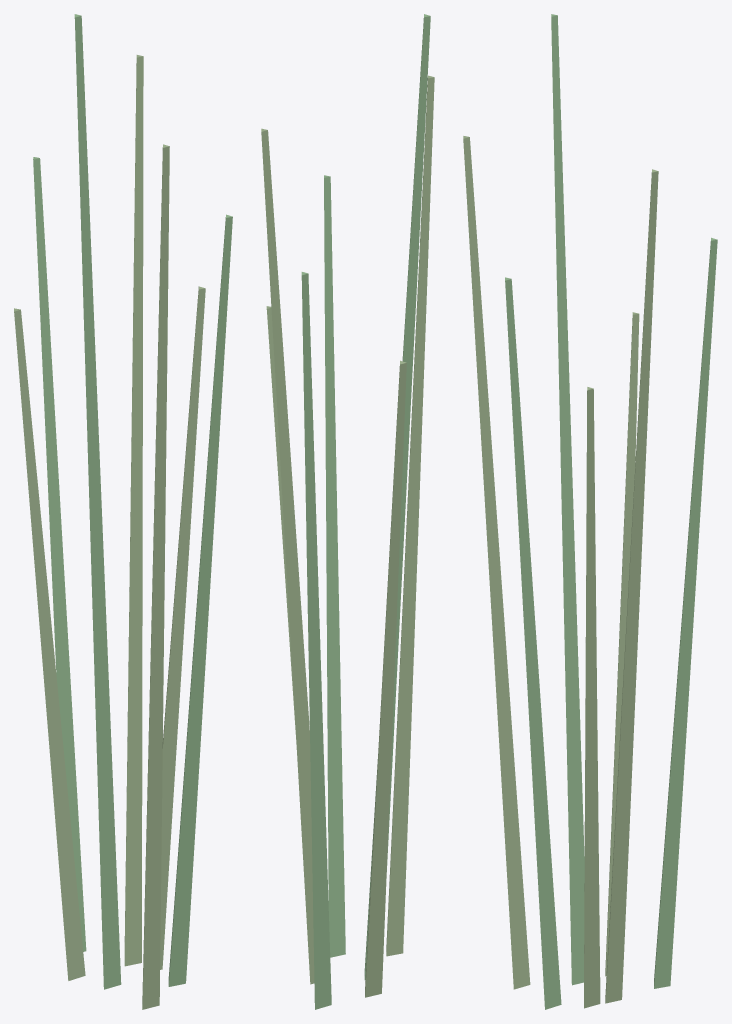
The model's file is reed_v14.glb.
3 views of the same model, side by side, from view 1: azimuth 30°, elevation 25°; view 2: azimuth 150°, elevation 25°; view 3: azimuth 270°, elevation 25° (orthographic). The views are drawn at different scales.
Parts seen in each view (by area): view 1: lod0; view 2: lod0; view 3: lod0.
Part boxes in pixels (left/top/right/bottom): lod0: left=14, top=14, right=232, bottom=1009; lod0: left=261, top=14, right=434, bottom=1009; lod0: left=463, top=14, right=717, bottom=1009.
Size of what is drawn, in the model's own units: 0.335 by 1.89 by 0.4604.
